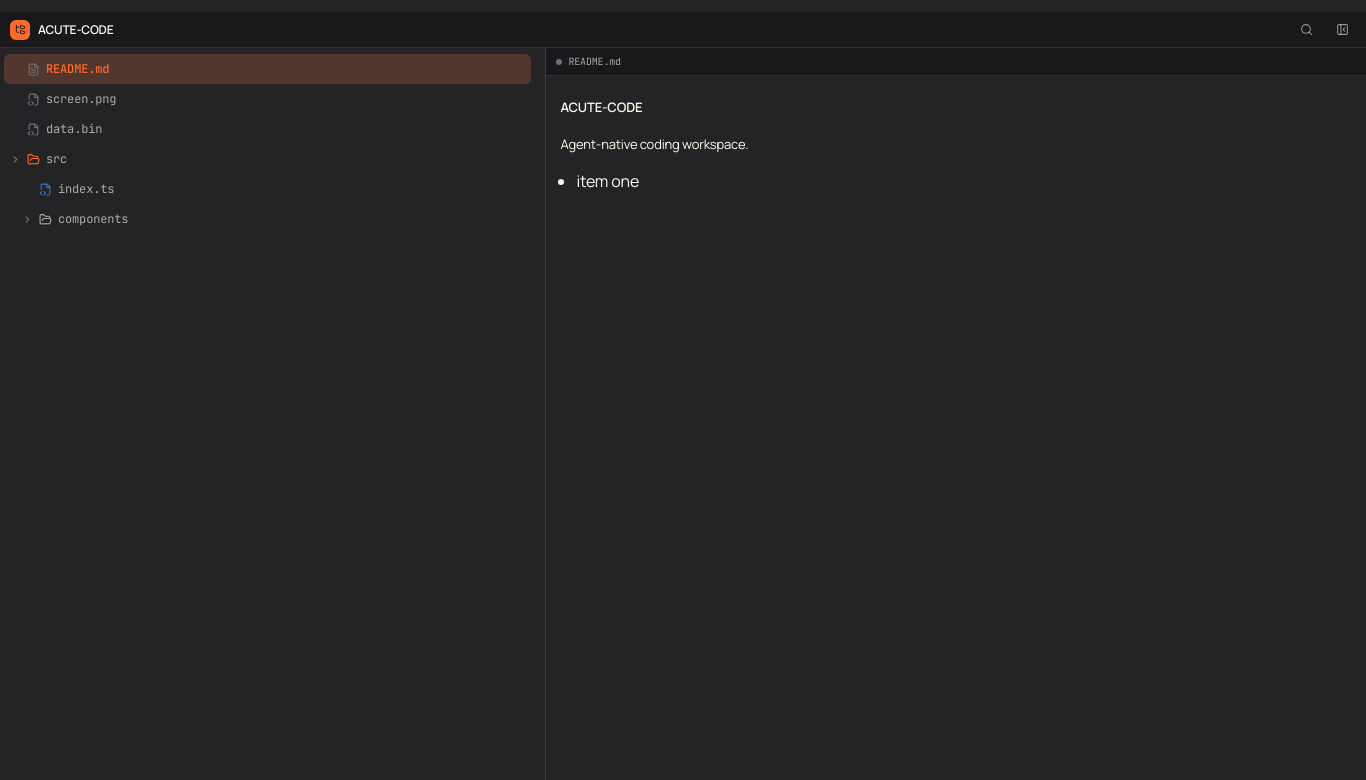
FilesExplorerPanel (ROUND-48 R48-c) › clicking a code file renders line-numbered tokenized content
Click the button "index.ts" at (86, 189), box [4,174,531,204]
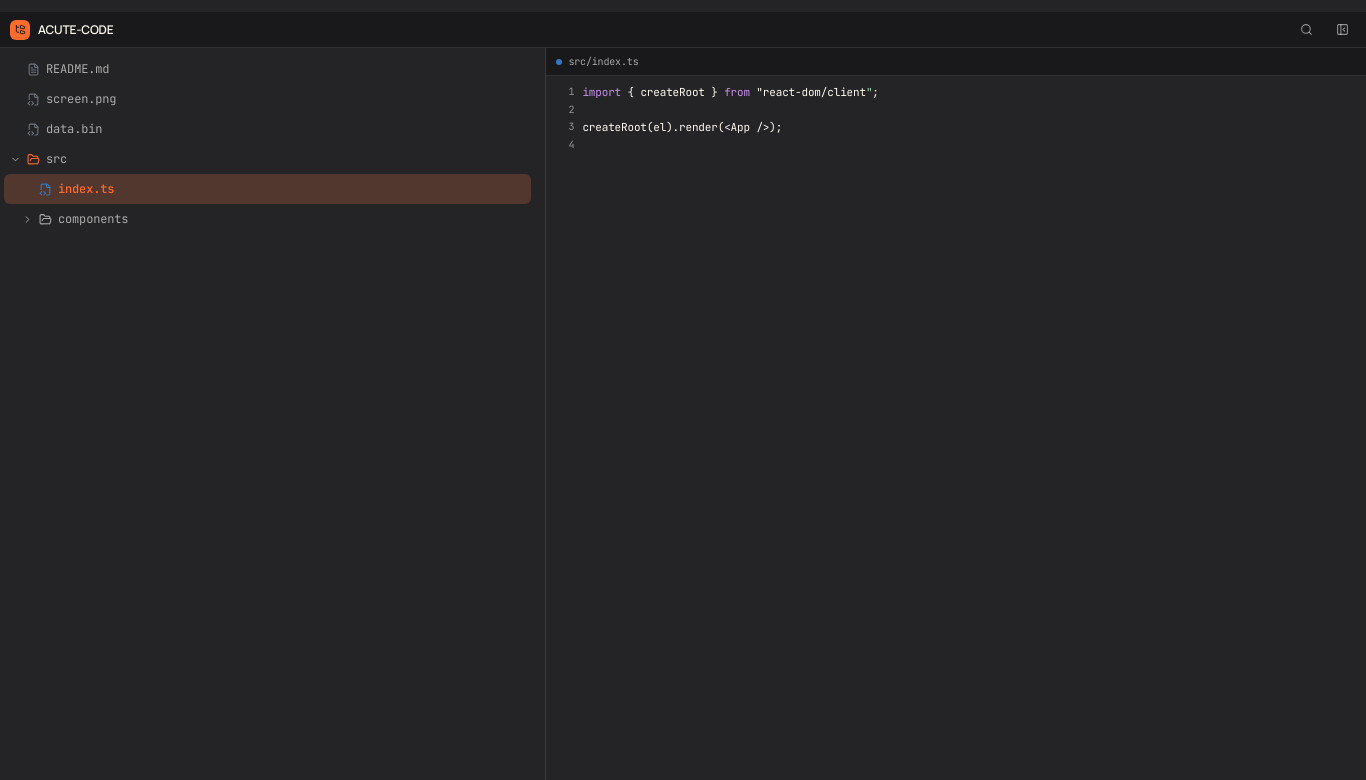
Check: the text "createRoot" is shown 2 times, box [640,85,705,99]; [582,120,647,134]
Check: the text "1" is shown, box [568,85,574,98]
Check: the text "2" is shown, box [568,103,574,116]
